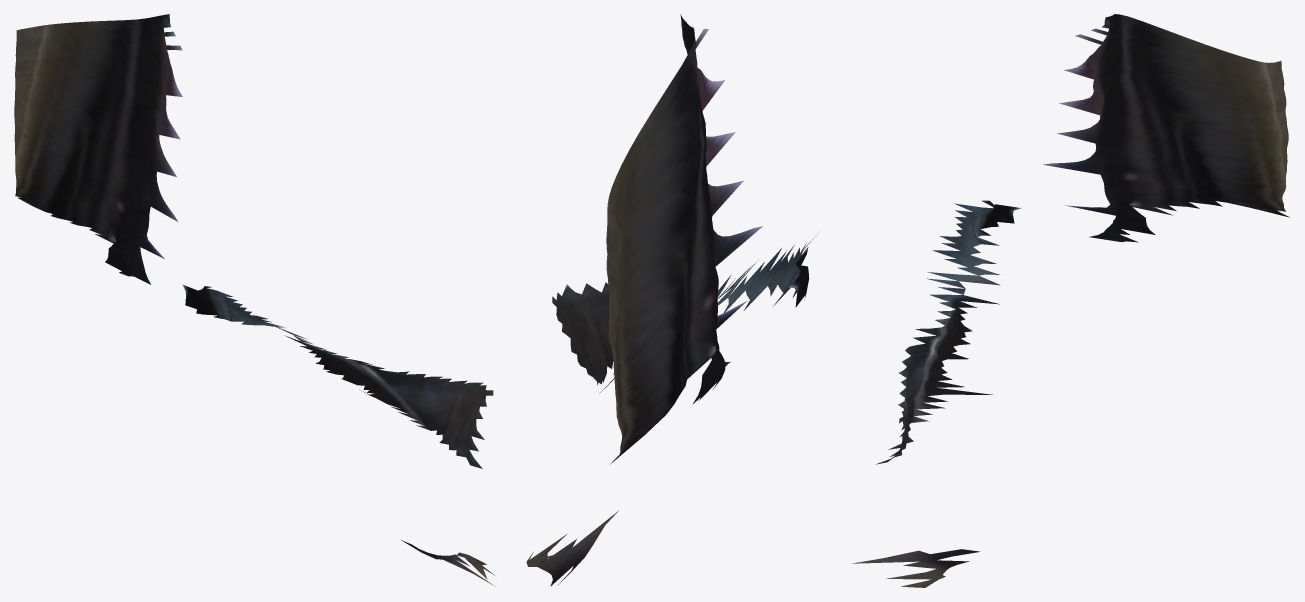
Rendered from observed-surface.glb.
The picture shows the model from 3 angles, left to right: view 1: azimuth 30°, elevation 25°; view 2: azimuth 150°, elevation 25°; view 3: azimuth 270°, elevation 25°; orthographic projection. The views are drawn at different scales.
Parts seen in each view (by area): view 1: geometry_0; view 2: geometry_0; view 3: geometry_0.
Boxes of the visible parts, x1=… form: geometry_0: x1=14, y1=14, x2=495, y2=586; geometry_0: x1=526, y1=14, x2=818, y2=586; geometry_0: x1=852, y1=14, x2=1289, y2=587.
Size of the model in its own units: 0.4002 by 0.7529 by 0.627.
Materials: 1 (1 with a texture image).
